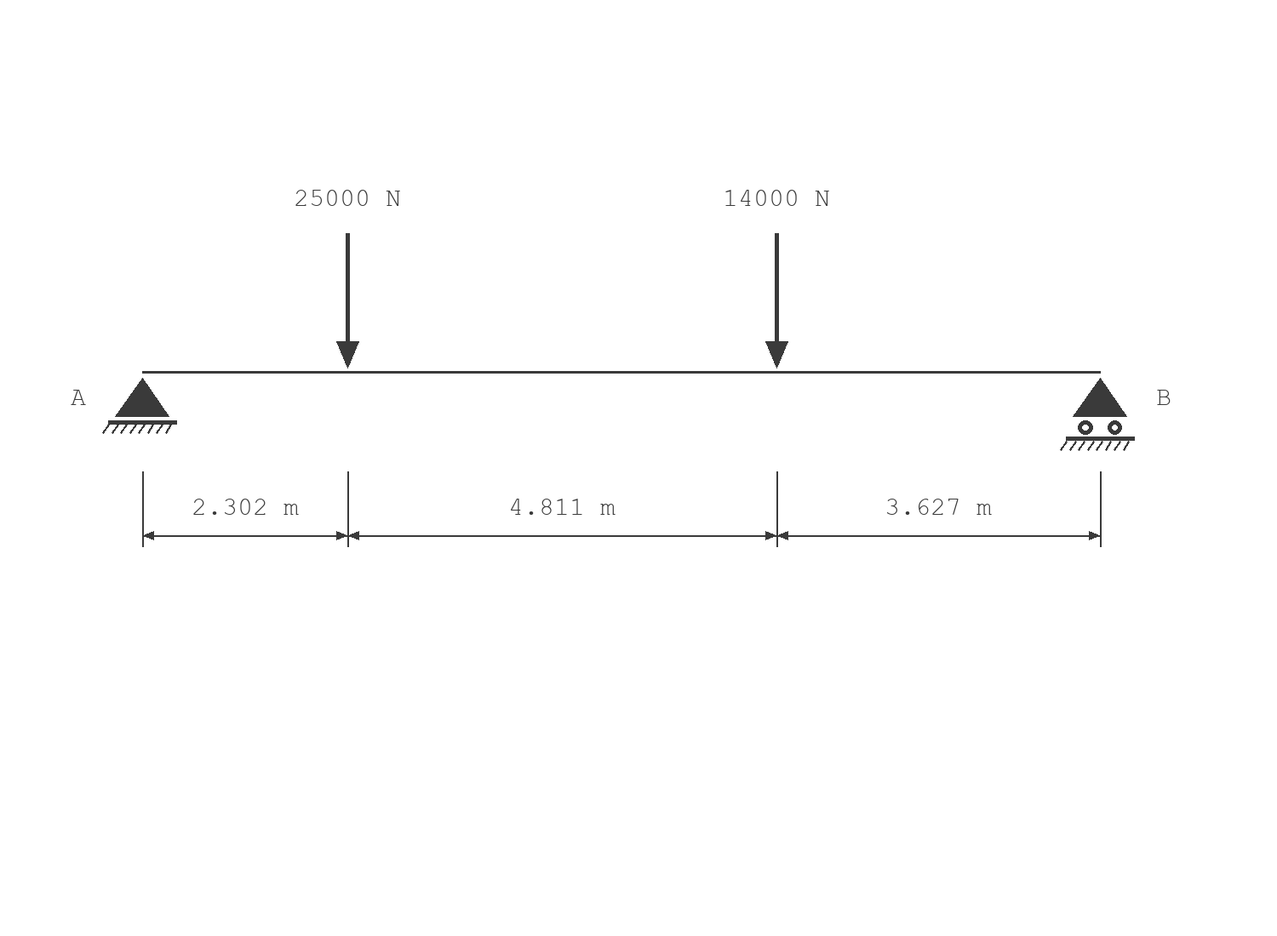pin_support: (102, 378, 177, 434)
point_load: (336, 233, 359, 368), (765, 233, 788, 368)
roller_support: (1060, 378, 1135, 451)
